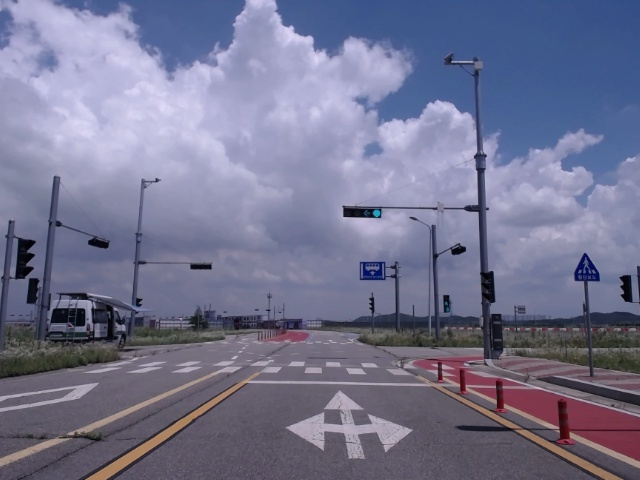all_green_4: (342, 206, 384, 218)
